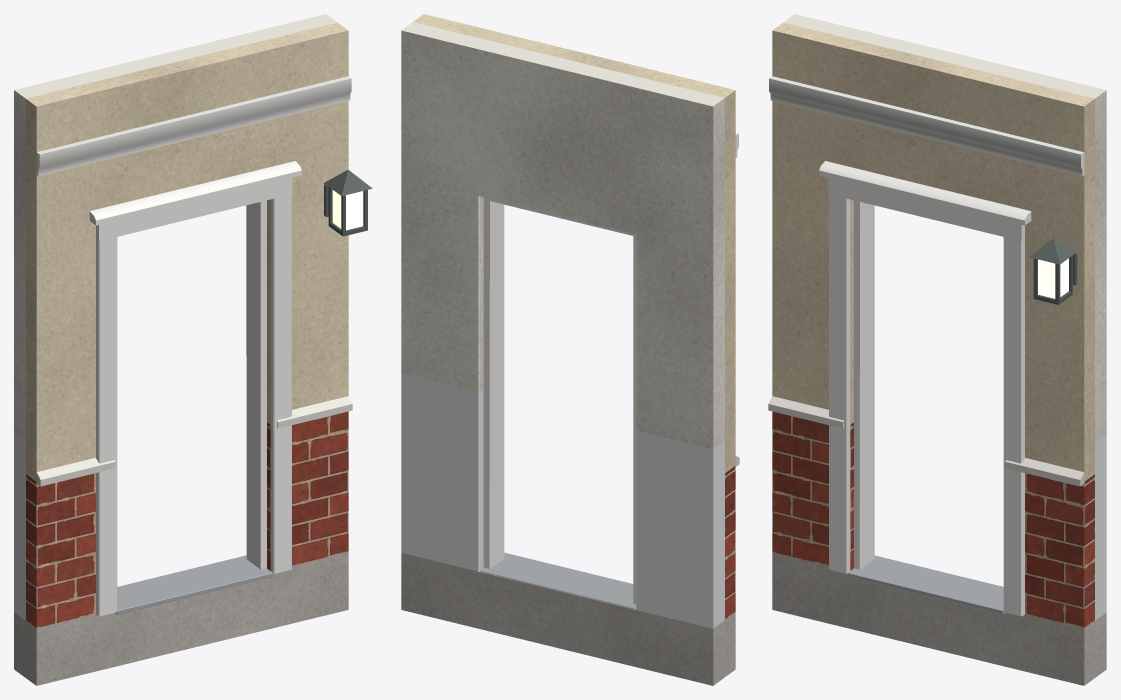
File: c_door_b.glb
The picture shows the model from 3 angles, left to right: view 1: azimuth 30°, elevation 25°; view 2: azimuth 150°, elevation 25°; view 3: azimuth 330°, elevation 25°; orthographic projection.
Visible parts, largest first — view 1: c_door_b_render, c_door_b_trim, c_door_b_brick, c_door_b_concrete, c_door_b_plaster, c_door_b_steel, c_door_b_coping, c_door_b_tile, c_door_b_iron, c_door_b_lamp_glass; view 2: c_door_b_plaster, c_door_b_tile, c_door_b_concrete, c_door_b_trim, c_door_b_render, c_door_b_steel, c_door_b_brick; view 3: c_door_b_render, c_door_b_trim, c_door_b_brick, c_door_b_concrete, c_door_b_plaster, c_door_b_steel, c_door_b_coping, c_door_b_tile, c_door_b_iron, c_door_b_lamp_glass.
Boxes of the visible parts, left/top/right/bottom form: c_door_b_render: left=26, top=22, right=348, bottom=481; c_door_b_trim: left=36, top=76, right=351, bottom=616; c_door_b_brick: left=26, top=411, right=348, bottom=628; c_door_b_concrete: left=14, top=553, right=348, bottom=685; c_door_b_plaster: left=14, top=14, right=337, bottom=441; c_door_b_steel: left=115, top=555, right=272, bottom=614; c_door_b_coping: left=36, top=396, right=352, bottom=486; c_door_b_tile: left=14, top=433, right=25, bottom=620; c_door_b_iron: left=324, top=169, right=372, bottom=236; c_door_b_lamp_glass: left=332, top=190, right=363, bottom=230; c_door_b_plaster: left=401, top=22, right=724, bottom=449; c_door_b_tile: left=401, top=373, right=724, bottom=628; c_door_b_concrete: left=401, top=553, right=735, bottom=685; c_door_b_trim: left=483, top=133, right=738, bottom=604; c_door_b_render: left=413, top=14, right=735, bottom=472; c_door_b_steel: left=480, top=552, right=636, bottom=609; c_door_b_brick: left=725, top=466, right=735, bottom=619; c_door_b_render: left=772, top=22, right=1094, bottom=481; c_door_b_trim: left=769, top=76, right=1084, bottom=616; c_door_b_brick: left=772, top=411, right=1094, bottom=628; c_door_b_concrete: left=772, top=553, right=1106, bottom=685; c_door_b_plaster: left=783, top=14, right=1106, bottom=440; c_door_b_steel: left=848, top=555, right=1005, bottom=614; c_door_b_coping: left=768, top=396, right=1084, bottom=486; c_door_b_tile: left=1095, top=433, right=1106, bottom=620; c_door_b_iron: left=1029, top=238, right=1077, bottom=304; c_door_b_lamp_glass: left=1038, top=258, right=1068, bottom=298.
Size of the model in its own units: 2 by 3.55 by 0.52.
10 materials, 4 textured.
